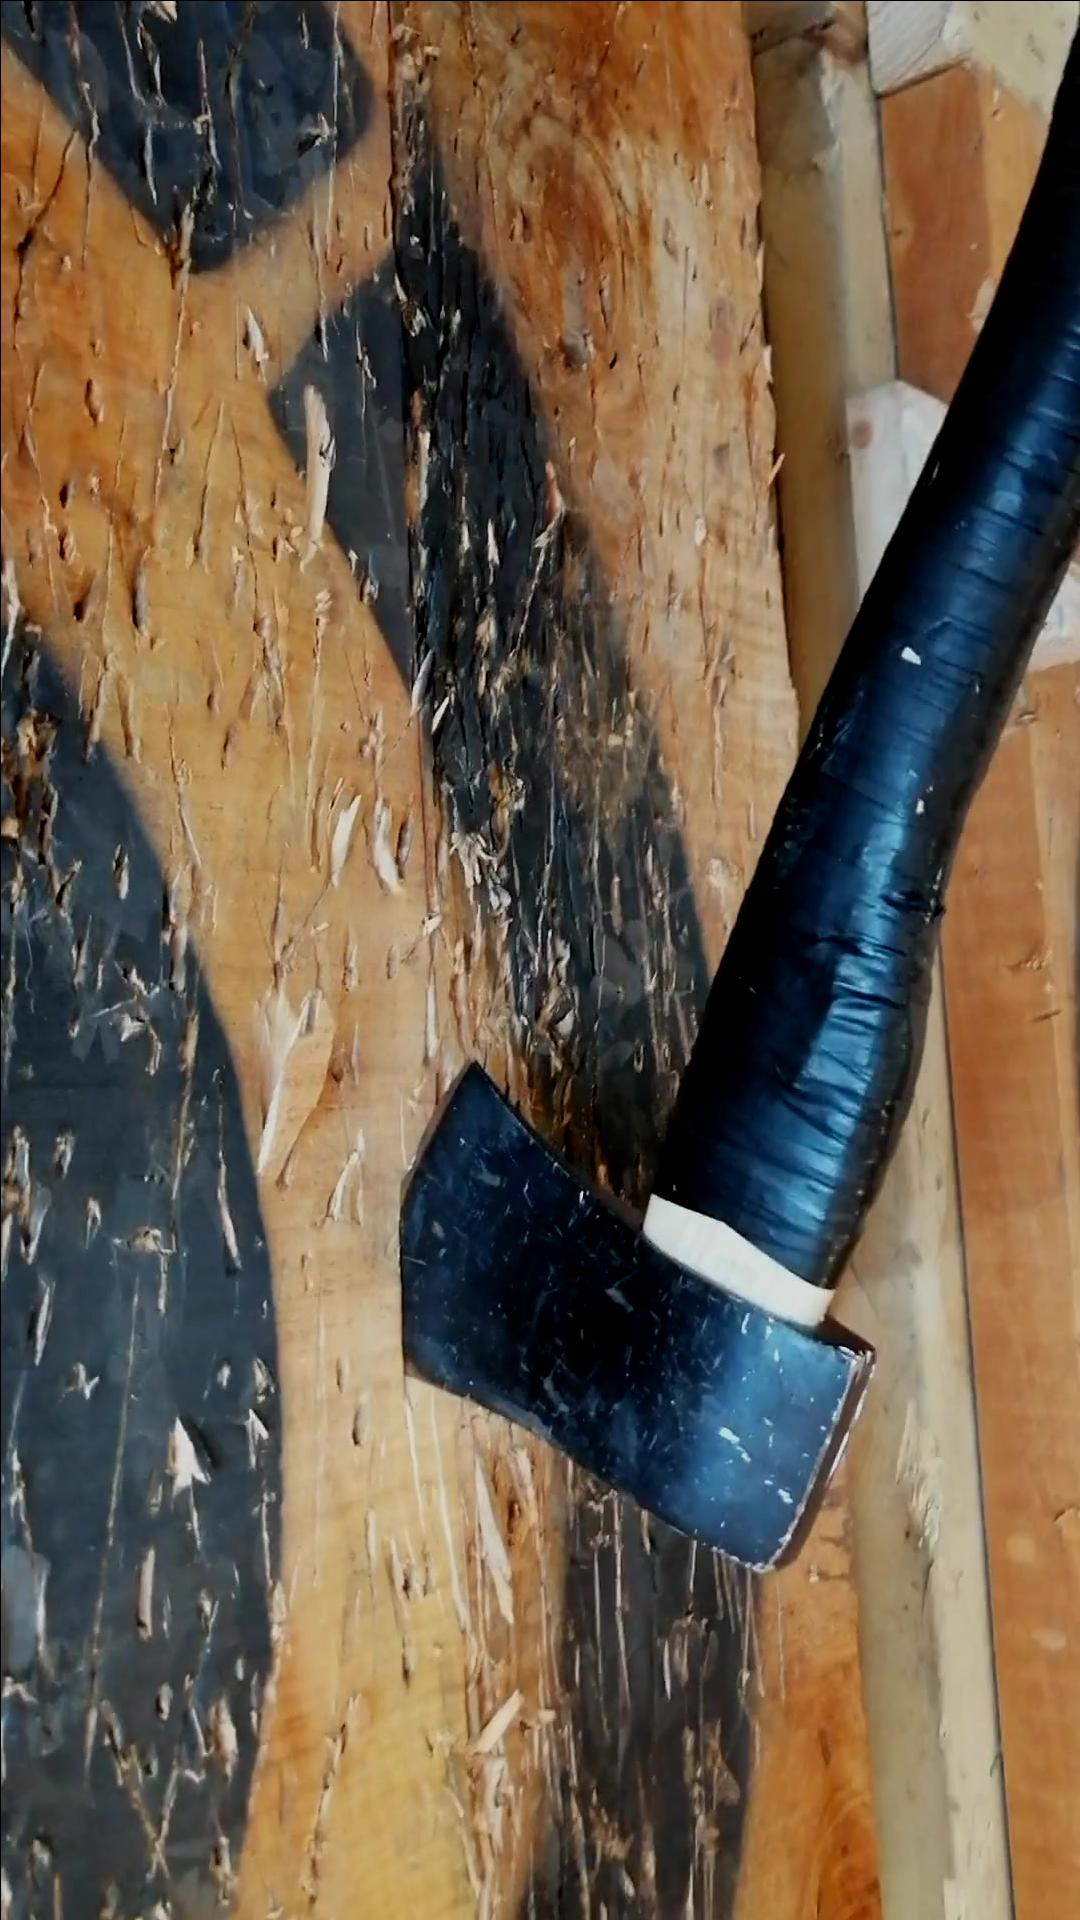Hand Axe: (392, 1055, 885, 1580)
